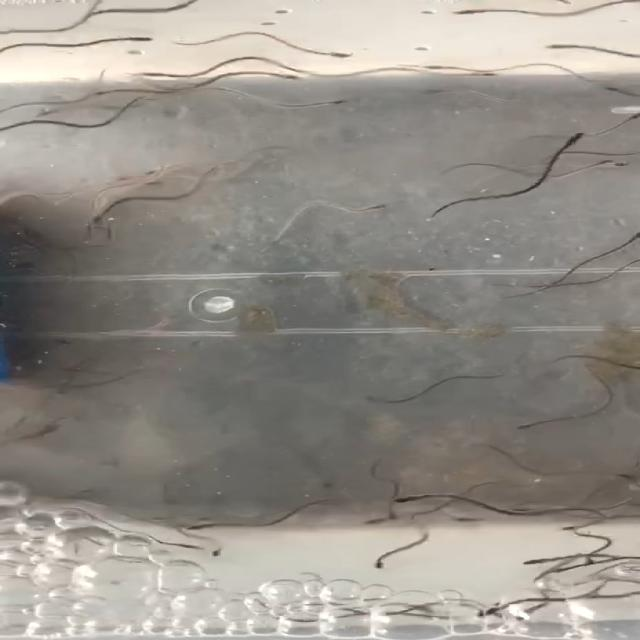active_glass_eel: (302, 43, 374, 60), (356, 196, 408, 218), (106, 27, 152, 50), (541, 132, 597, 150), (85, 204, 126, 228), (604, 105, 640, 132), (589, 153, 631, 175), (196, 546, 246, 564), (448, 4, 494, 22), (537, 34, 588, 50), (368, 550, 400, 574), (314, 94, 356, 112), (514, 553, 567, 567), (397, 490, 432, 510), (478, 600, 516, 618), (265, 70, 307, 85), (415, 83, 455, 97), (610, 471, 640, 489), (412, 62, 456, 74), (356, 394, 396, 406), (137, 67, 171, 81), (513, 418, 546, 432), (596, 80, 620, 98)
